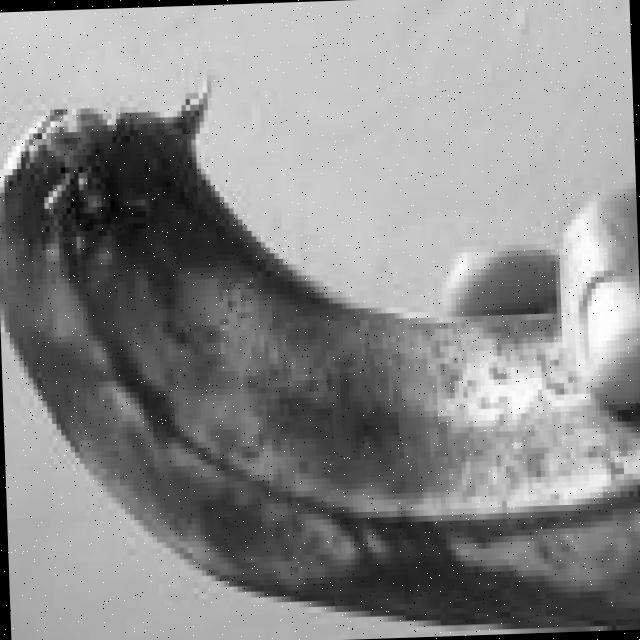Bad_Banana-0 day: (0, 97, 640, 630)
